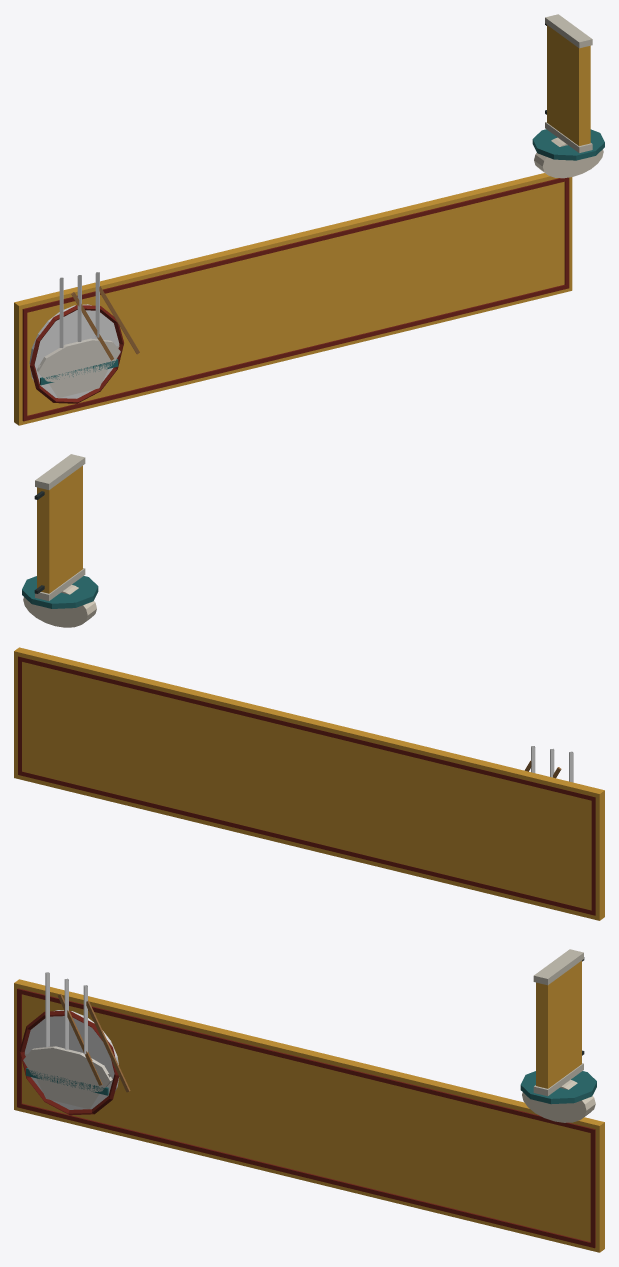
Rendered from bang_pho_ba_tam_60.glb.
The picture shows the model from 3 angles, top to bottom: view 1: azimuth 30°, elevation 25°; view 2: azimuth 150°, elevation 25°; view 3: azimuth 330°, elevation 25°; orthographic projection. The views are drawn at different scales.
Visible parts, largest first — view 1: bang_pho_ba_tam_60; view 2: bang_pho_ba_tam_60; view 3: bang_pho_ba_tam_60.
Part boxes in pixels (x1,y1,x2,y2): bang_pho_ba_tam_60: (14,14,604,425); bang_pho_ba_tam_60: (14,454,604,920); bang_pho_ba_tam_60: (14,949,604,1252).
Bounding box in the file's own units: 5.91 × 2.81 × 0.7258.
